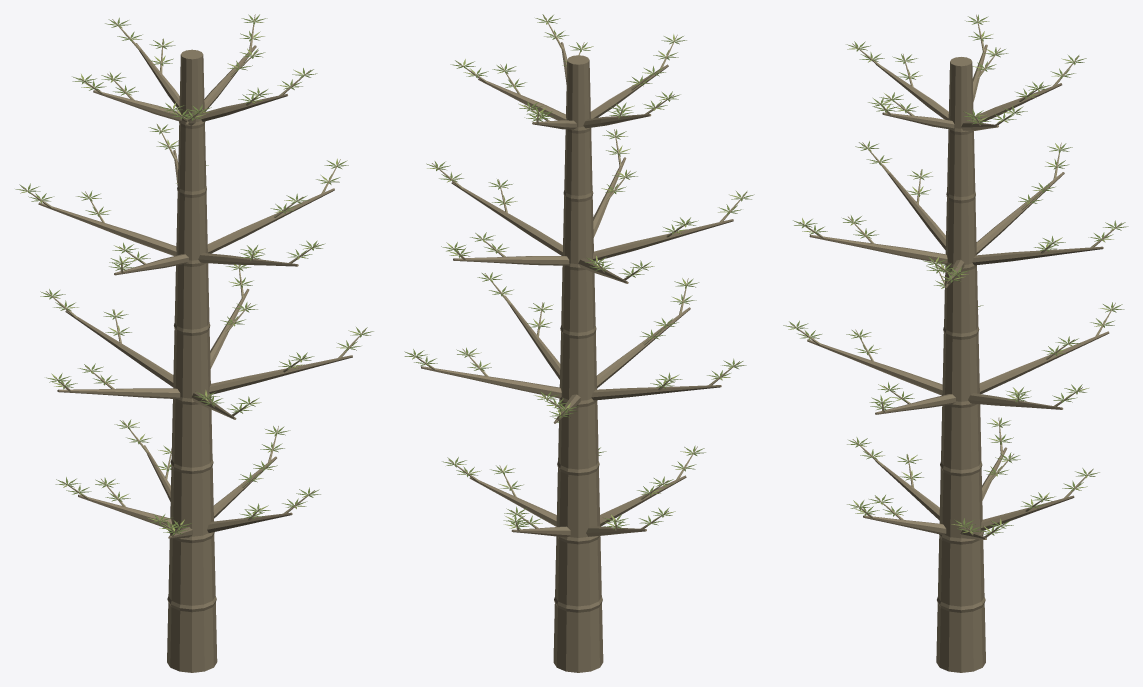
3 renders of one model, left to right at view 1: azimuth 30°, elevation 25°; view 2: azimuth 150°, elevation 25°; view 3: azimuth 270°, elevation 25°, orthographic.
Visible parts, largest first — view 1: quiet-barked-eight-node-woody-sphenopsid, five-hundred-sixty-small-lanceolate-whorled-leaves; view 2: quiet-barked-eight-node-woody-sphenopsid, five-hundred-sixty-small-lanceolate-whorled-leaves; view 3: quiet-barked-eight-node-woody-sphenopsid, five-hundred-sixty-small-lanceolate-whorled-leaves.
Boxes of the visible parts, x1,y1,x2,y2 form: quiet-barked-eight-node-woody-sphenopsid: (22, 14, 366, 672); five-hundred-sixty-small-lanceolate-whorled-leaves: (15, 14, 373, 535); quiet-barked-eight-node-woody-sphenopsid: (410, 14, 747, 672); five-hundred-sixty-small-lanceolate-whorled-leaves: (404, 14, 754, 529); quiet-barked-eight-node-woody-sphenopsid: (790, 14, 1121, 672); five-hundred-sixty-small-lanceolate-whorled-leaves: (783, 14, 1128, 535).
Size of the model in its own units: 2.57 by 4.8 by 2.5.
